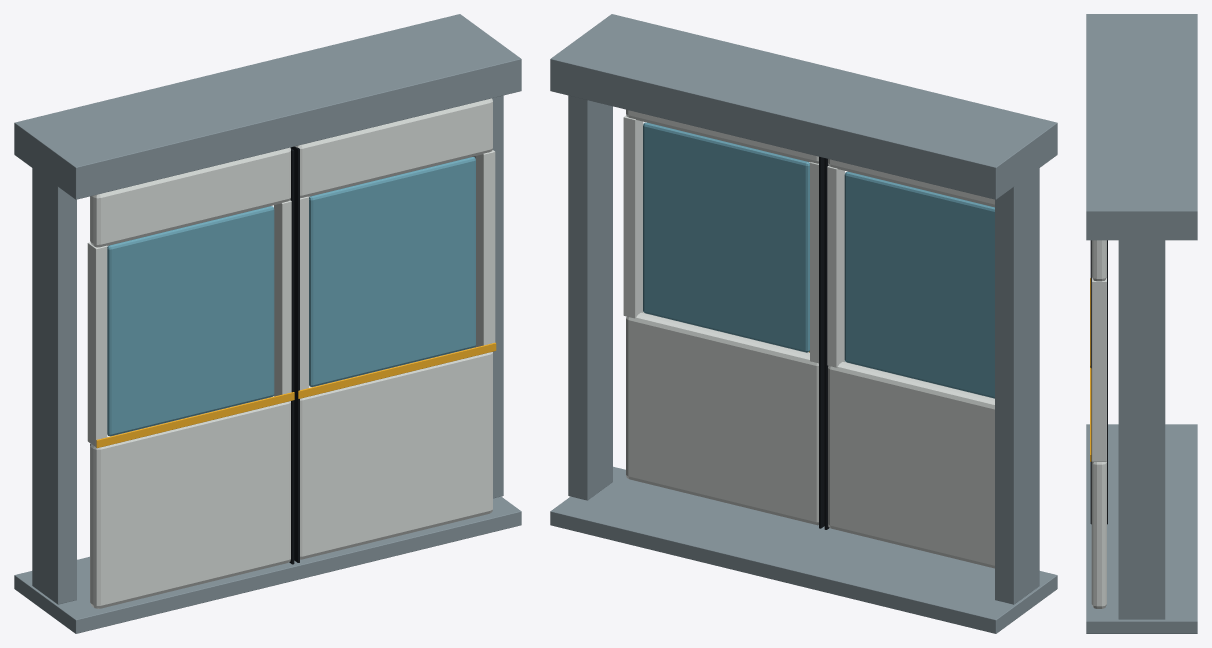
The model's file is edited.glb.
3 renders of one model, left to right at view 1: azimuth 30°, elevation 25°; view 2: azimuth 150°, elevation 25°; view 3: azimuth 270°, elevation 25°, orthographic. The views are drawn at different scales.
Parts seen in each view (by area): view 1: FRAME_Header, DOOR_Lower, WINDOW_Pane, WINDOW_Pane.001, DOOR_Lower.001, FRAME_Side, TRACK_Base, DOOR_Upper, DOOR_Upper.001, DOOR_Stile, FRAME_Side.001, DOOR_Stile.003 (+6 smaller); view 2: FRAME_Header, DOOR_Lower.001, WINDOW_Pane.001, WINDOW_Pane, TRACK_Base, DOOR_Lower, FRAME_Side, FRAME_Side.001, DOOR_Stile.003, DOOR_Stile.001, DOOR_EdgeSeal.001, DOOR_Stile.002 (+3 smaller); view 3: FRAME_Header, FRAME_Side.001, TRACK_Base, DOOR_Stile.003, DOOR_Lower.001, DOOR_EdgeSeal.001, DOOR_Upper.001, WARNING_Band.001.
Boxes of the visible parts, <box> form: FRAME_Header: <box>14,14,521,199</box>; DOOR_Lower: <box>90,396,290,608</box>; WINDOW_Pane: <box>107,206,274,436</box>; WINDOW_Pane.001: <box>309,157,475,386</box>; DOOR_Lower.001: <box>300,347,492,559</box>; FRAME_Side: <box>32,161,76,604</box>; TRACK_Base: <box>14,496,521,633</box>; DOOR_Upper: <box>90,147,290,247</box>; DOOR_Upper.001: <box>295,98,492,198</box>; DOOR_Stile: <box>87,242,107,447</box>; FRAME_Side.001: <box>472,95,503,498</box>; DOOR_Stile.003: <box>475,150,495,346</box>; FRAME_Header: <box>550,14,1057,199</box>; DOOR_Lower.001: <box>626,312,818,525</box>; WINDOW_Pane.001: <box>643,122,809,352</box>; WINDOW_Pane: <box>844,171,994,398</box>; TRACK_Base: <box>550,466,1057,633</box>; DOOR_Lower: <box>828,362,994,568</box>; FRAME_Side: <box>995,161,1039,604</box>; FRAME_Side.001: <box>568,95,612,500</box>; DOOR_Stile.003: <box>623,115,643,318</box>; DOOR_Stile.001: <box>827,166,844,367</box>; DOOR_EdgeSeal.001: <box>819,156,824,528</box>; DOOR_Stile.002: <box>810,162,818,363</box>; FRAME_Header: <box>1086,14,1197,240</box>; FRAME_Side.001: <box>1118,233,1165,619</box>; TRACK_Base: <box>1086,424,1197,633</box>; DOOR_Stile.003: <box>1091,277,1106,461</box>; DOOR_Lower.001: <box>1091,462,1106,608</box>; DOOR_EdgeSeal.001: <box>1090,240,1107,524</box>; DOOR_Upper.001: <box>1091,240,1106,281</box>; WARNING_Band.001: <box>1090,367,1091,461</box>.
Bounding box in the file's own units: 2.3 × 2.3 × 0.55.
